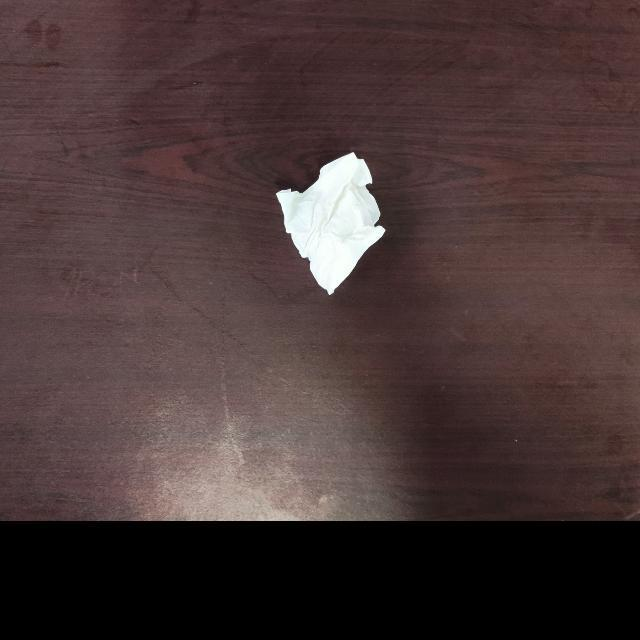kitchen paper: (274, 146, 390, 299)
